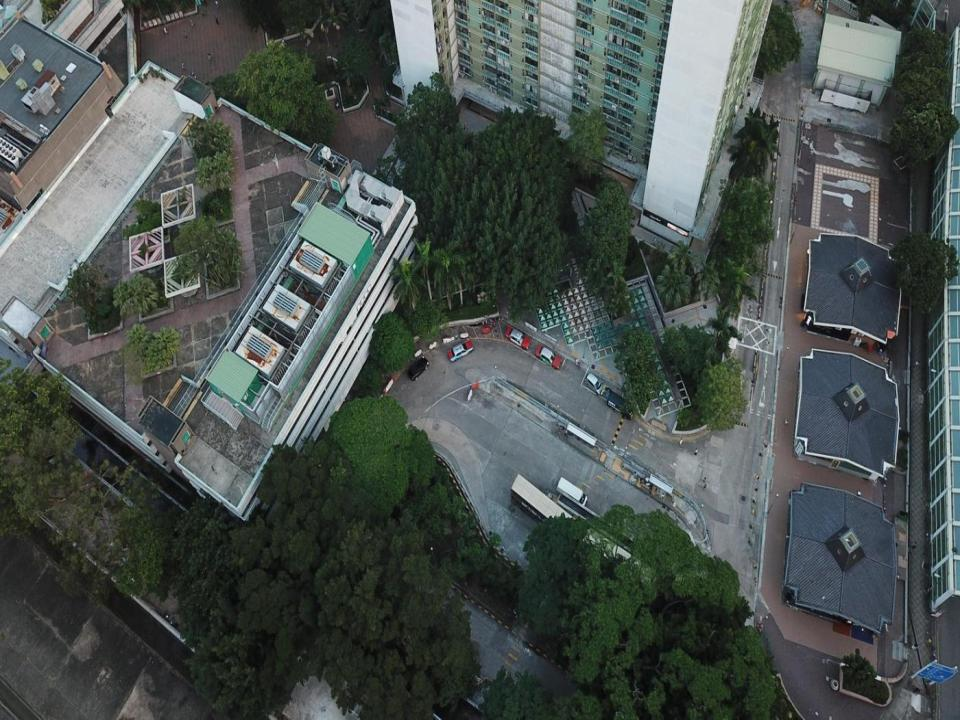car: (504, 325, 530, 351), (535, 345, 561, 369), (447, 339, 473, 361), (407, 356, 429, 380), (584, 373, 603, 395)
truck: (510, 473, 659, 598)
van: (556, 477, 588, 507), (606, 391, 633, 420)
